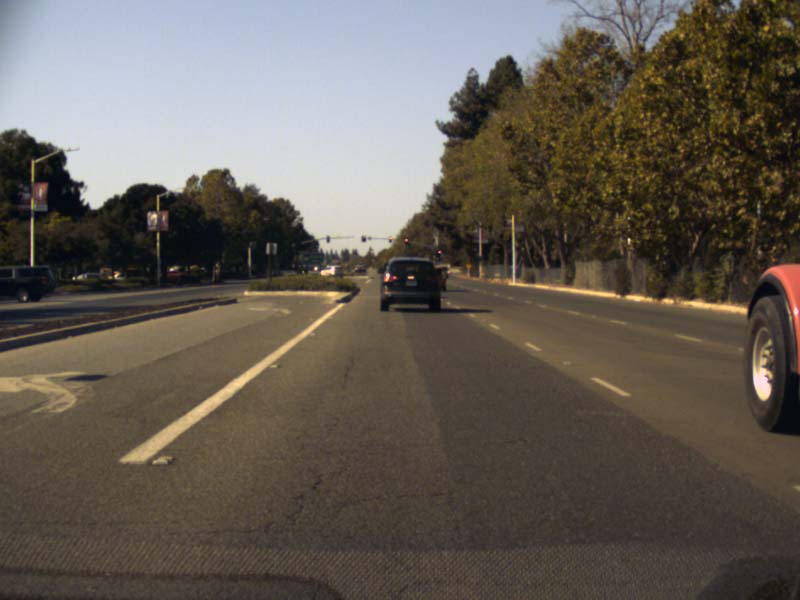Red: (436, 249, 441, 258), (404, 238, 408, 243), (388, 237, 391, 242)
